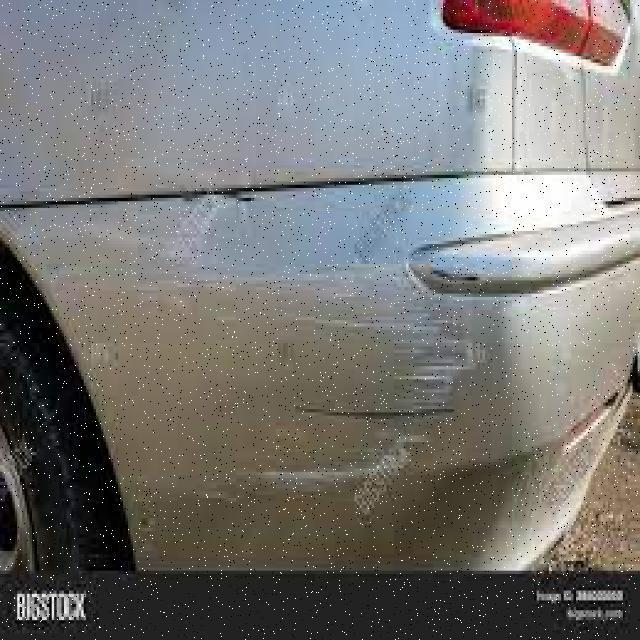rear-bumper-dent: (0, 172, 635, 580)
